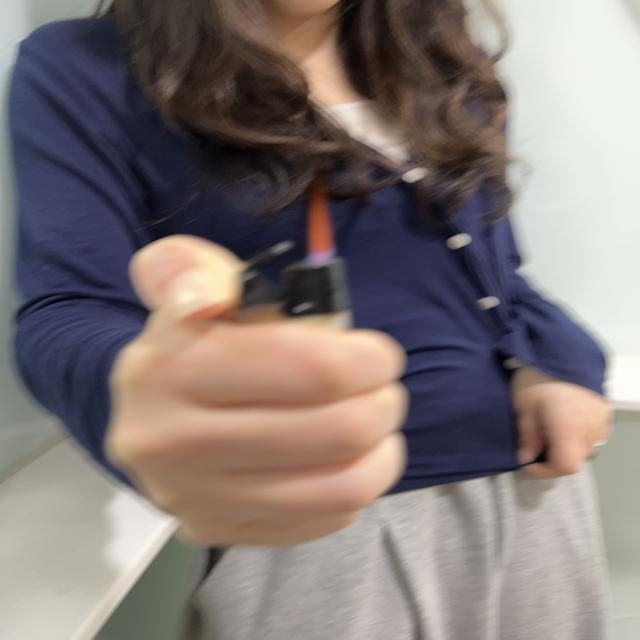fire: (306, 180, 341, 266)
